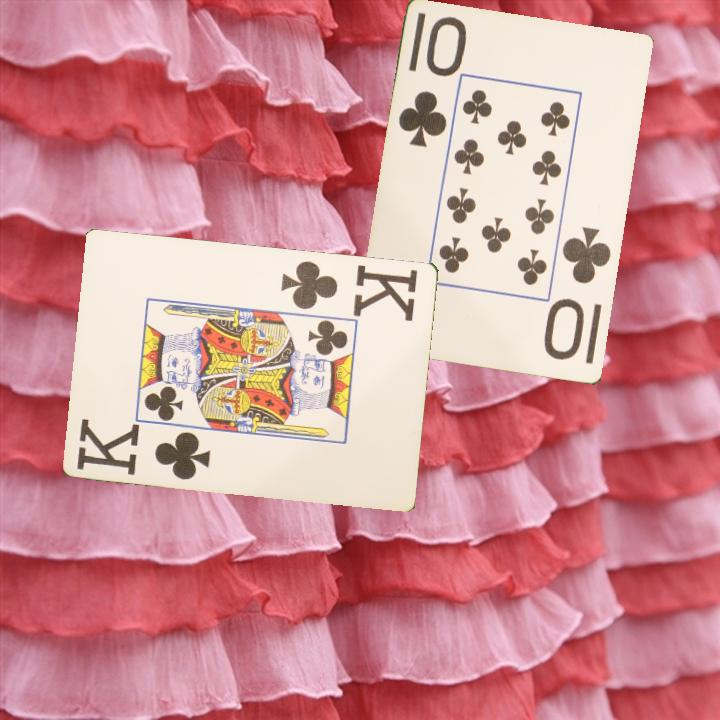10c: (543, 224, 615, 364), (395, 13, 466, 151)
Kc: (277, 256, 421, 323), (74, 417, 214, 483)
